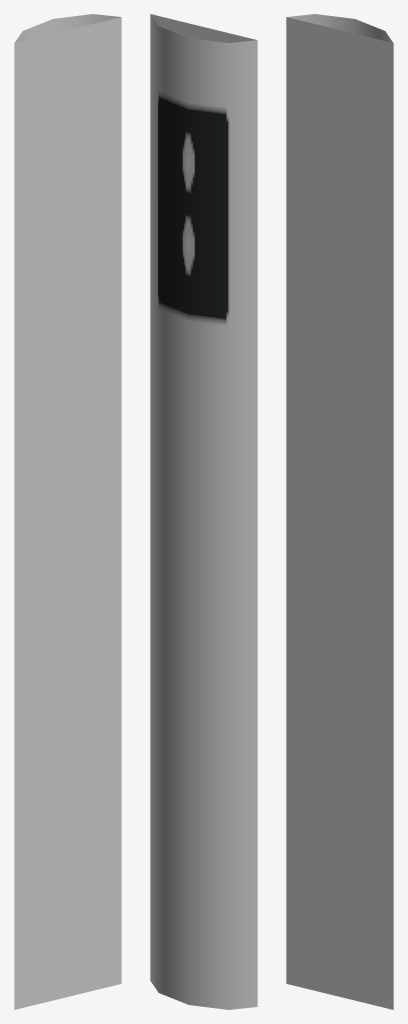
The model's file is norway_reflector_post.dae.
3 renders of one model, left to right at view 1: azimuth 30°, elevation 25°; view 2: azimuth 150°, elevation 25°; view 3: azimuth 330°, elevation 25°, orthographic.
Parts seen in each view (by area): view 1: NorwayReflectorPost; view 2: NorwayReflectorPost; view 3: NorwayReflectorPost.
Boxes of the visible parts, left/top/right/bottom form: NorwayReflectorPost: left=14, top=14, right=121, bottom=1009; NorwayReflectorPost: left=150, top=14, right=257, bottom=1009; NorwayReflectorPost: left=286, top=14, right=393, bottom=1009.
Bounding box in the file's own units: 0.1167 × 0.0287 × 1.01.
1 material, 1 textured.
